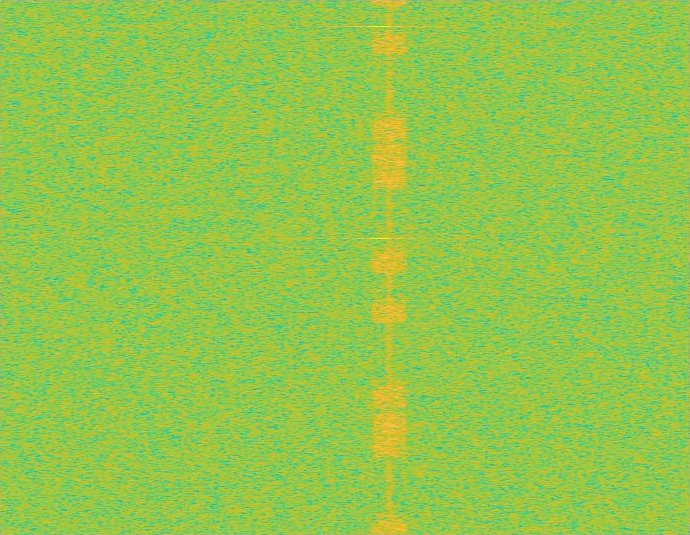DSSS: (387, 0, 392, 534)
LTE: (372, 0, 407, 534)
Radar: (373, 0, 387, 534)
